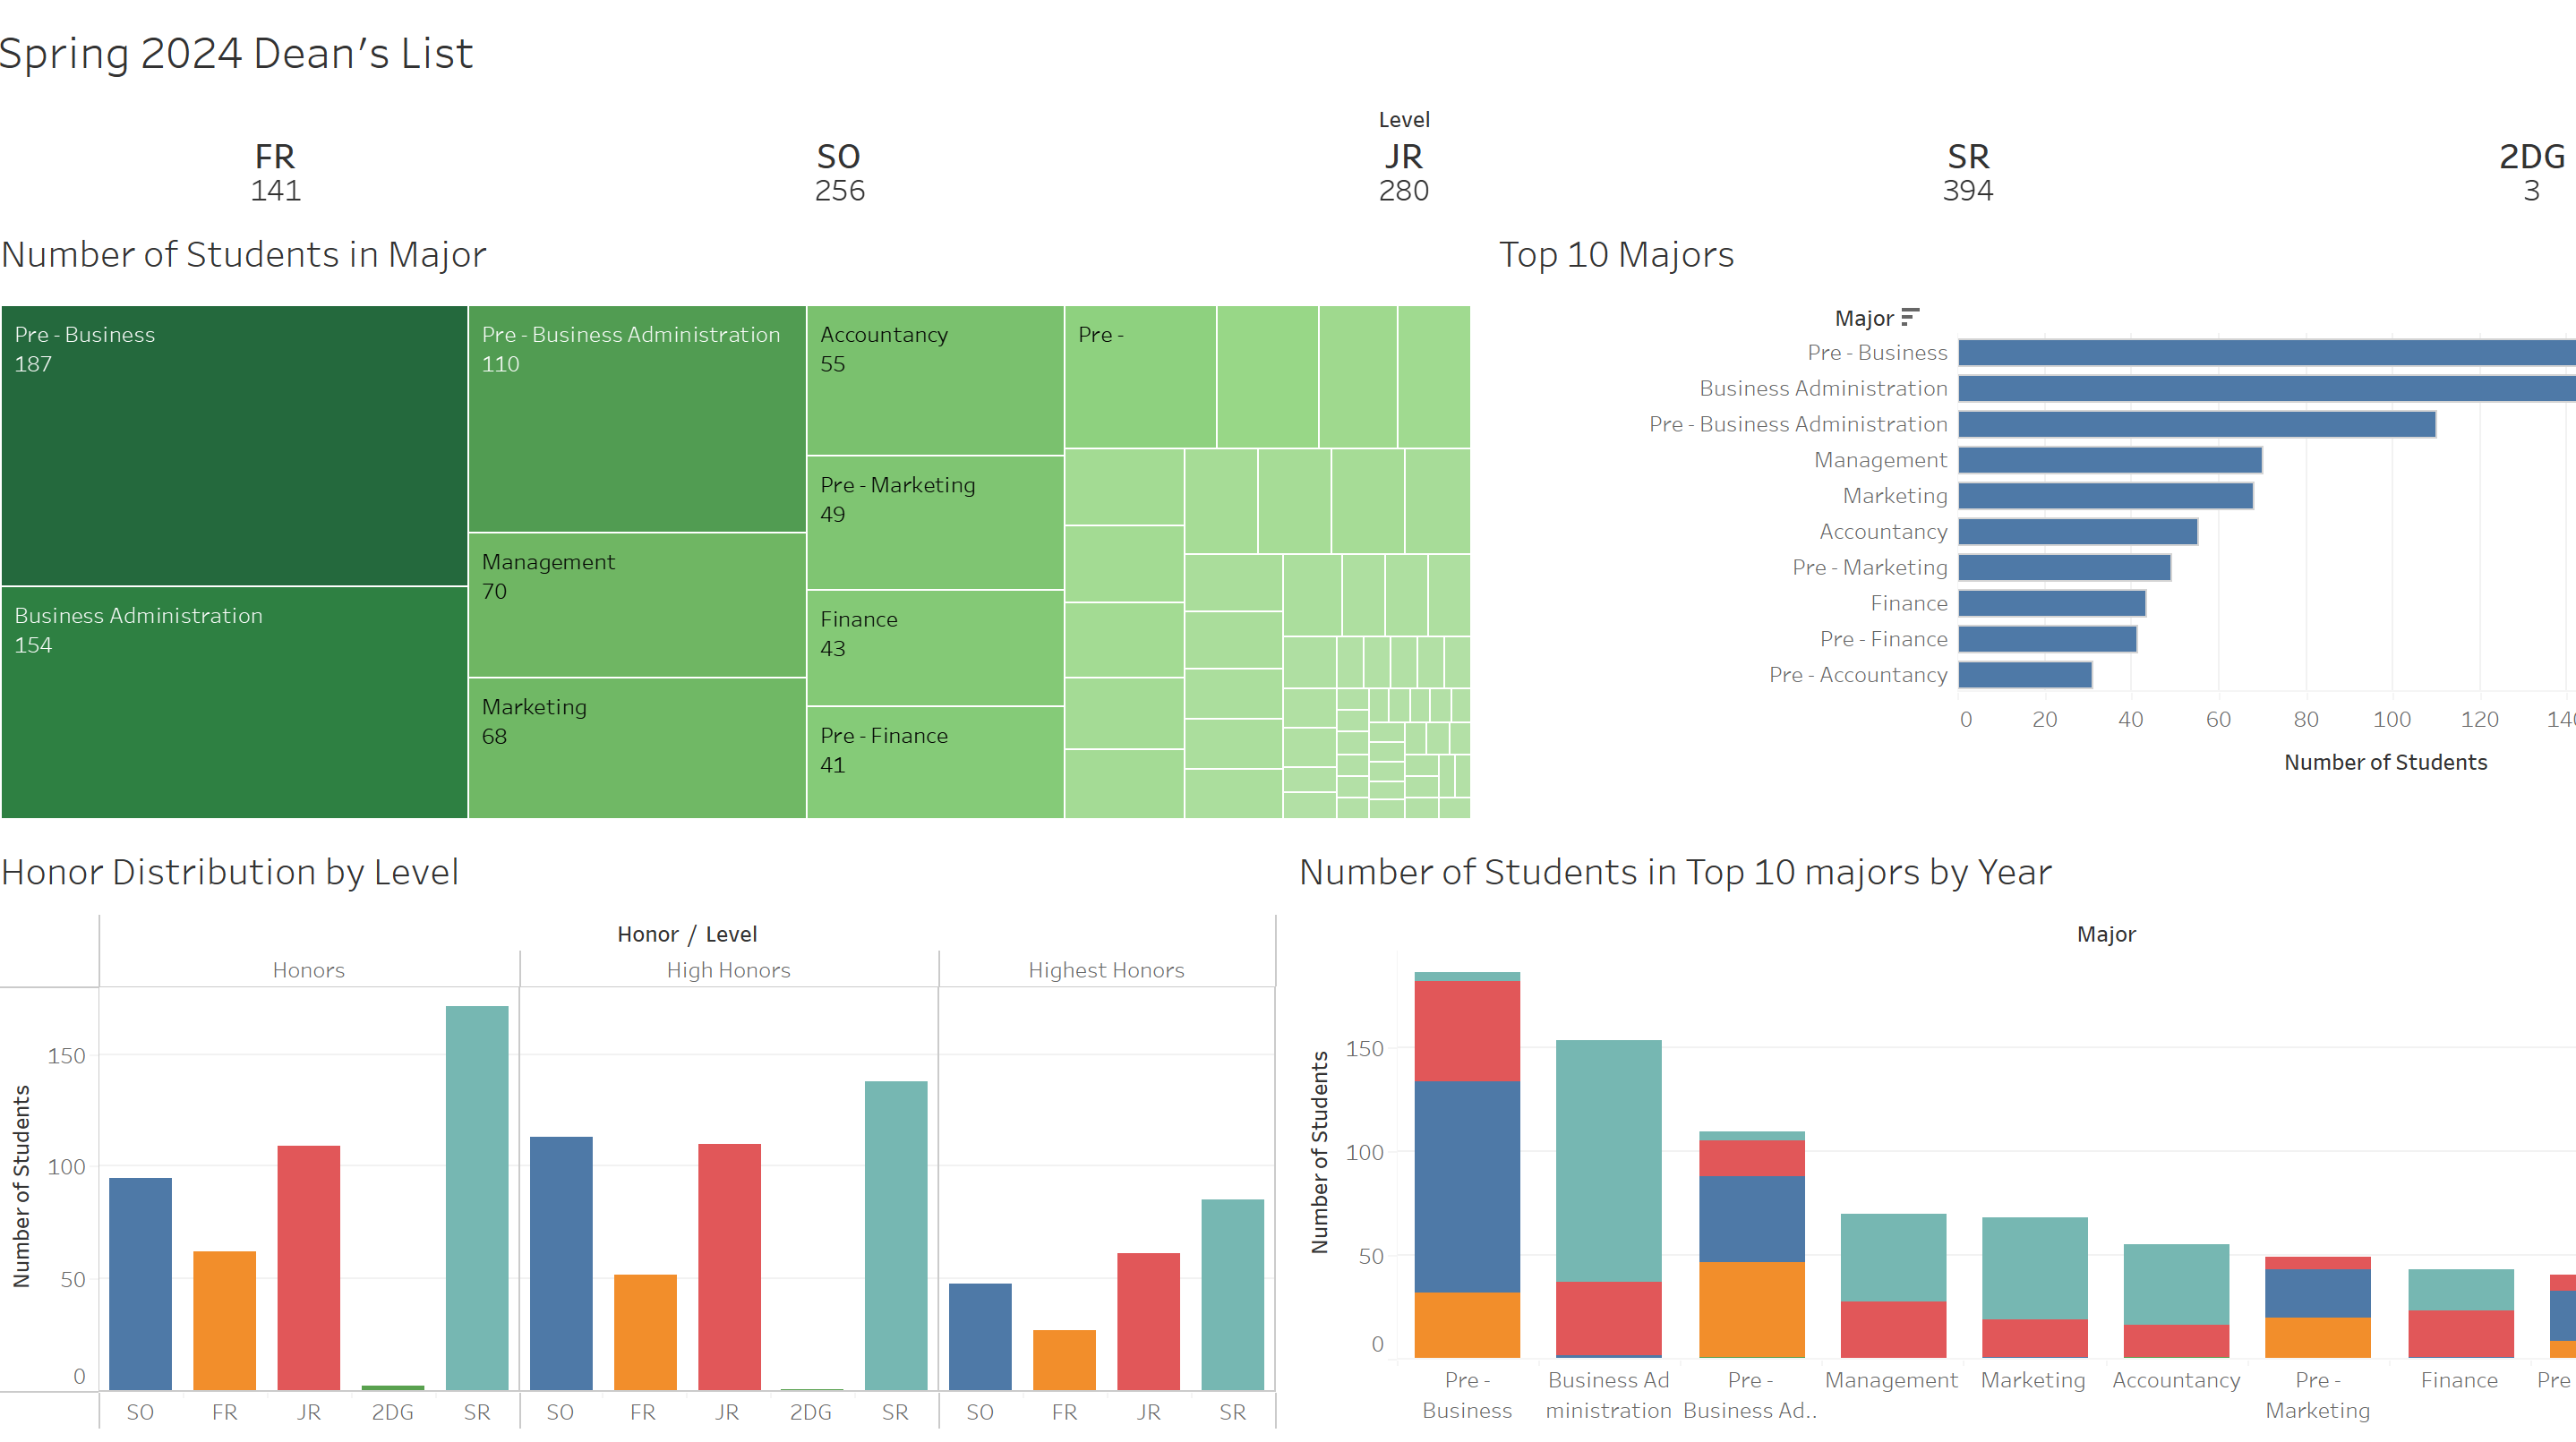

The dashboard page shown, as its layout file describes it:
{"tool":"tableau","page":{"name":"Dashboard 2","canvas":[1000,1000],"units":"permille","ordinal":0},"visuals":[{"type":"title","box":[4.8,10,990.3,57.4]},{"type":"worksheet","title":"Sheet 7","mark":"Automatic","cols":["Level"],"box":[4.8,67.4,990.3,82.4]},{"type":"worksheet","title":"Sheet 3","mark":"Automatic","box":[4.8,149.8,523.2,424.5]},{"type":"worksheet","title":"Sheet 6","mark":"Automatic","rows":["Major"],"cols":["Number of Students"],"box":[528.1,149.8,467.1,424.5]},{"type":"worksheet","title":"Sheet 4","mark":"Automatic","rows":["Number of Students"],"cols":["Honor","Level"],"box":[4.8,574.3,453.2,415.7]},{"type":"worksheet","title":"Sheet 1","mark":"Automatic","rows":["Number of Students"],"cols":["Major"],"box":[458.1,574.3,537.1,415.7]}]}

Visuals, with their boxes on the dashboard's canvas, which has no fixed pixel size, in thousandths of its width and height (x1, y1, x2, y2). These are canvas units, not pixel positions in the 2576x1442 screenshot, which may show the page scaled, cropped or inside an application window:
title: (5,10,995,67)
"Sheet 7" worksheet: (5,67,995,150)
"Sheet 3" worksheet: (5,150,528,574)
"Sheet 6" worksheet: (528,150,995,574)
"Sheet 4" worksheet: (5,574,458,990)
"Sheet 1" worksheet: (458,574,995,990)
